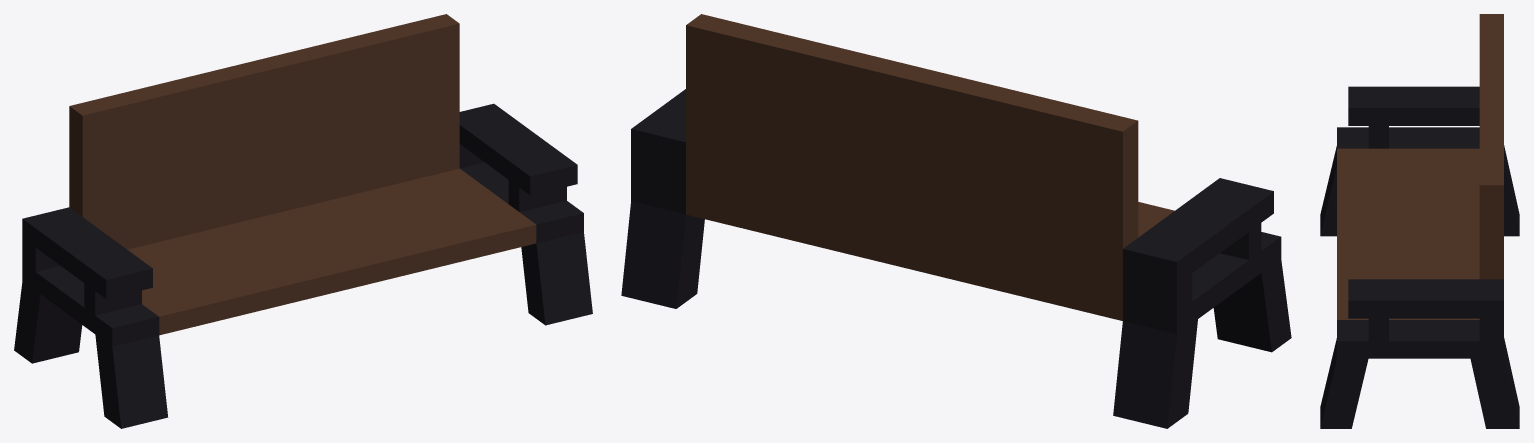
File: bench.fbx
The picture shows the model from 3 angles, left to right: view 1: azimuth 30°, elevation 25°; view 2: azimuth 150°, elevation 25°; view 3: azimuth 270°, elevation 25°; orthographic projection. The views are drawn at different scales.
Visible parts, largest first — view 1: Plane; view 2: Plane; view 3: Plane.
Boxes of the visible parts, x1,y1,x2,y2 form: Plane: (14,14,592,428); Plane: (621,14,1291,428); Plane: (1320,14,1519,428).
Size of the model in its own units: 500 by 242 by 197.
